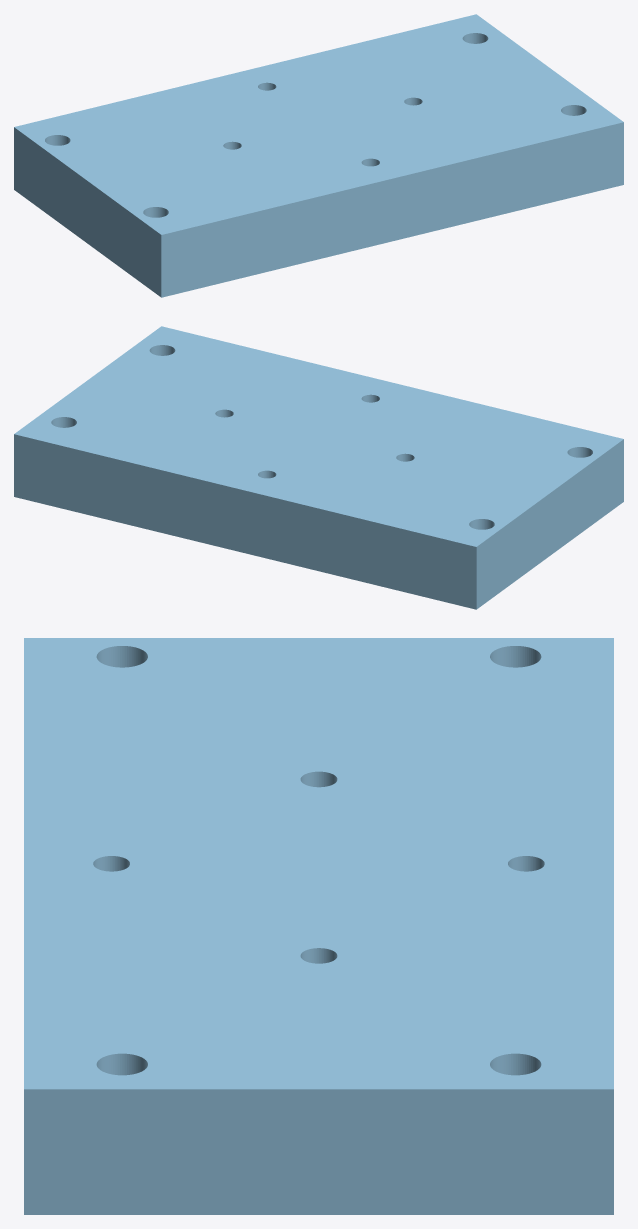
3 renders of one model, top to bottom at view 1: azimuth 30°, elevation 25°; view 2: azimuth 150°, elevation 25°; view 3: azimuth 270°, elevation 25°, orthographic. The views are drawn at different scales.
Parts seen in each view (by area): view 1: 5e6f8b056dad5312a53741b9; view 2: 5e6f8b056dad5312a53741b9; view 3: 5e6f8b056dad5312a53741b9.
Boxes of the visible parts, x1,y1,x2,y2 form: 5e6f8b056dad5312a53741b9: [14, 14, 623, 297]; 5e6f8b056dad5312a53741b9: [14, 326, 623, 609]; 5e6f8b056dad5312a53741b9: [24, 638, 613, 1214].
Bounding box in the file's own units: 0.0926 × 0.0512 × 0.012.
